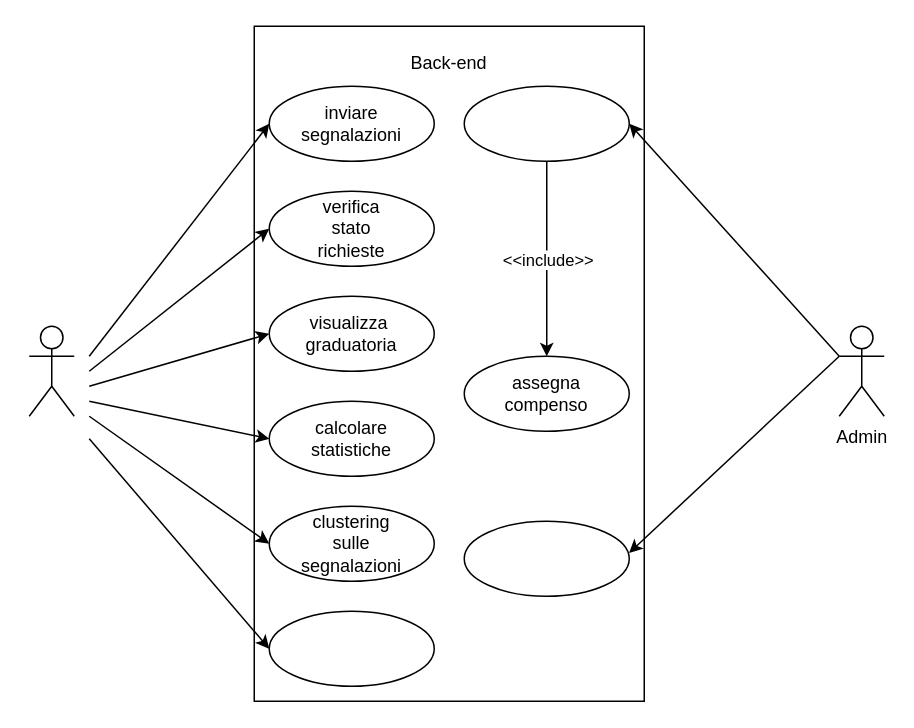
The diagram is 914 pixels wide and 728 high, and some of its shapes have lost their labels. The shapes that lost their labels are listed below. From the top down, each one's box as (x1, y1, x2, y2) in pixels, then its label:
(463, 85, 629, 161): validazione segnalazioni
(28, 325, 74, 416): Utente
(463, 520, 629, 596): Refill Token
(268, 610, 434, 686): filtraggio segnalazioni
